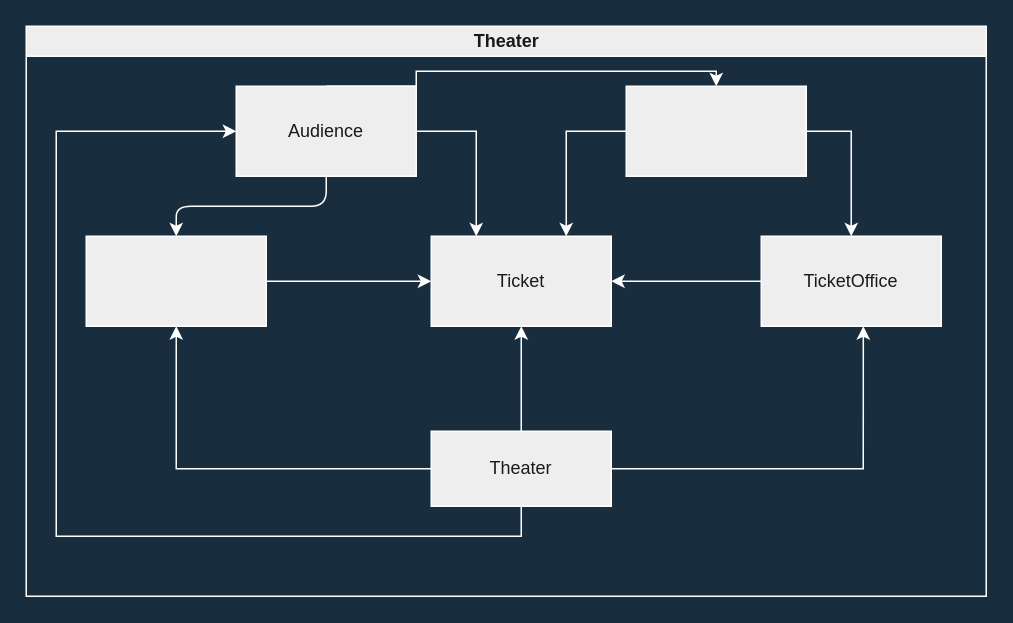
This 1013x623 diagram has some shape labels left out. The box of each missing label's shape, as (x1, y1, x2, y2) in pixels:
Invitation: (85, 235, 266, 326)
TicketSeller: (625, 85, 806, 176)
